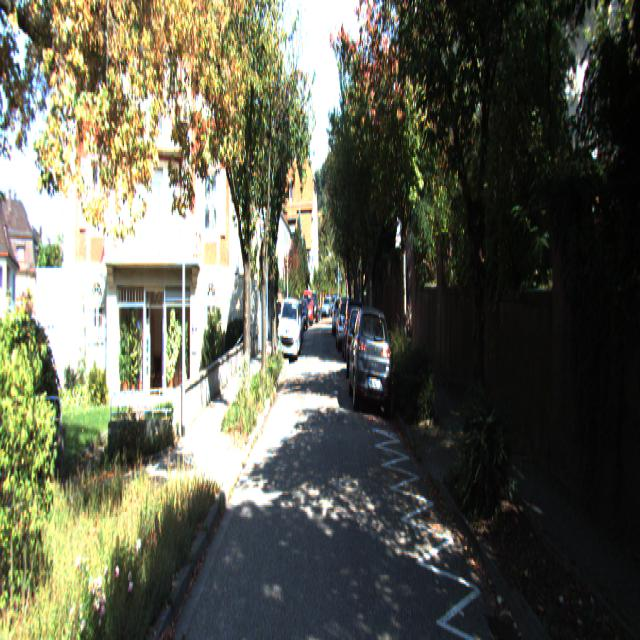Car: (347, 307, 393, 428), (346, 306, 372, 388), (341, 297, 365, 367), (278, 295, 302, 364), (335, 298, 355, 356)
